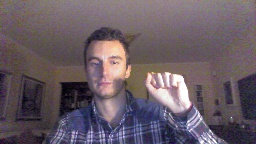Pugno: (143, 69, 192, 110)
